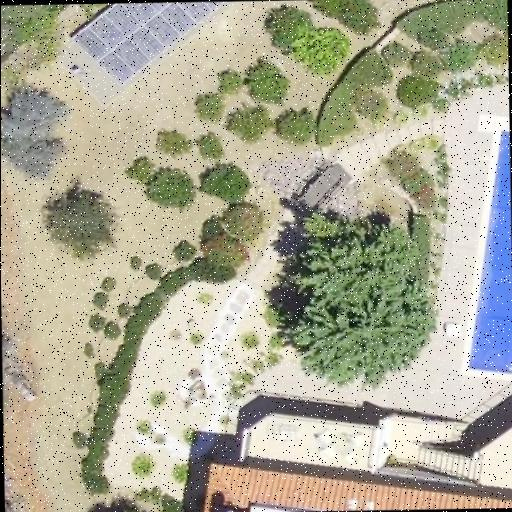solar-panel: (70, 0, 226, 86)
